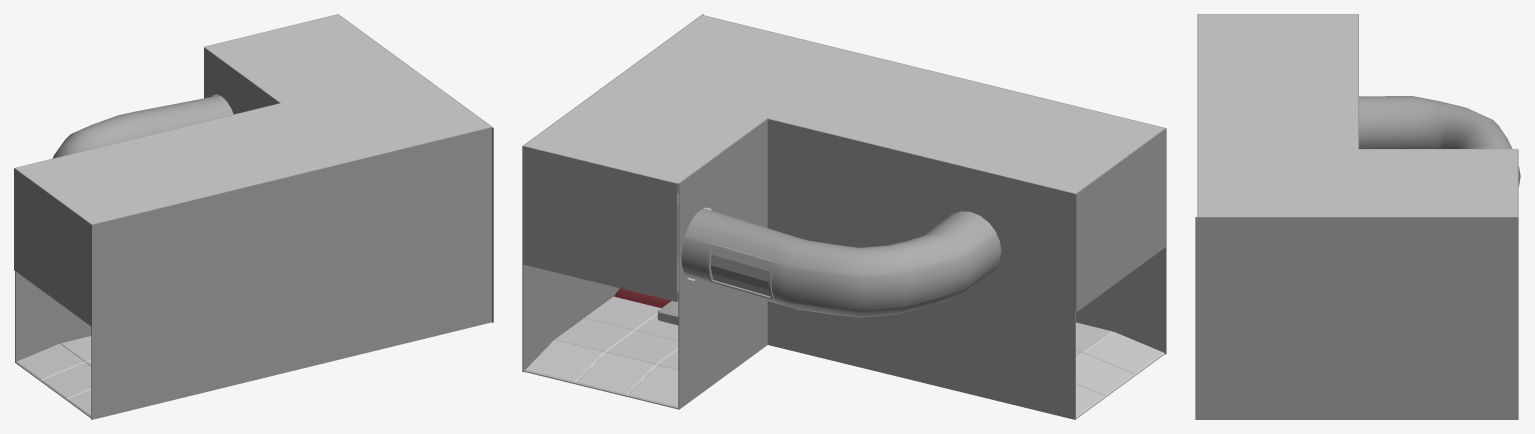
Rendered from Jaula.fbx.
The picture shows the model from 3 angles, left to right: view 1: azimuth 30°, elevation 25°; view 2: azimuth 150°, elevation 25°; view 3: azimuth 270°, elevation 25°; orthographic projection. The views are drawn at different scales.
Visible parts, largest first — view 1: Redes, Tubo, FloorPice59 (×2), FloorPice67, FloorPice47, FloorPice48, FloorPice57, FloorPice39, FloorPice42, FloorPice50, FloorPice51, FloorPice55 (+28 smaller); view 2: Redes, Tubo, FloorPice30 (×2), FloorPice35 (×2), FloorPice31 (×2), FloorPice57 (×2), FloorPice34 (×2), FloorPice62, FloorPice63, TuboVentana, FloorPice65, FloorPice68 (+32 smaller); view 3: Redes, Tubo, FloorPice30, FloorPice32, FloorPice36, FloorPice38, FloorPice39, FloorPice40, FloorPice41, FloorPice42, FloorPice44, FloorPice46 (+26 smaller).
Part boxes in pixels (bbox=[...]): Redes: bbox=[14, 14, 493, 419]; Tubo: bbox=[52, 95, 233, 158]; FloorPice59 (×2): bbox=[60, 146, 129, 362]; FloorPice67: bbox=[15, 343, 84, 381]; FloorPice47: bbox=[237, 103, 306, 132]; FloorPice48: bbox=[193, 114, 262, 143]; FloorPice57: bbox=[111, 184, 180, 213]; FloorPice39: bbox=[307, 111, 376, 140]; FloorPice42: bbox=[422, 108, 490, 137]; FloorPice50: bbox=[244, 151, 313, 180]; FloorPice51: bbox=[200, 162, 269, 191]; FloorPice55: bbox=[130, 154, 199, 183]; Redes: bbox=[522, 14, 1166, 419]; Tubo: bbox=[681, 208, 1001, 317]; FloorPice30 (×2): bbox=[554, 102, 634, 352]; FloorPice35 (×2): bbox=[584, 80, 663, 330]; FloorPice31 (×2): bbox=[605, 115, 685, 365]; FloorPice57 (×2): bbox=[1033, 103, 1113, 353]; FloorPice34 (×2): bbox=[635, 93, 715, 340]; FloorPice62: bbox=[575, 352, 656, 396]; FloorPice63: bbox=[524, 340, 604, 383]; TuboVentana: bbox=[710, 248, 770, 296]; FloorPice65: bbox=[1084, 332, 1164, 375]; FloorPice68: bbox=[627, 149, 707, 193]; Redes: bbox=[1195, 14, 1518, 419]; Tubo: bbox=[1359, 96, 1520, 186]; FloorPice30: bbox=[1411, 194, 1464, 216]; FloorPice32: bbox=[1411, 149, 1464, 171]; FloorPice36: bbox=[1304, 194, 1357, 216]; FloorPice38: bbox=[1304, 149, 1357, 171]; FloorPice39: bbox=[1251, 149, 1304, 171]; FloorPice40: bbox=[1251, 172, 1304, 194]; FloorPice41: bbox=[1251, 194, 1304, 216]; FloorPice42: bbox=[1198, 194, 1251, 216]; FloorPice44: bbox=[1198, 149, 1251, 171]; FloorPice46: bbox=[1251, 127, 1304, 149].
Bounding box in the file's own units: 904 × 420 × 611.
